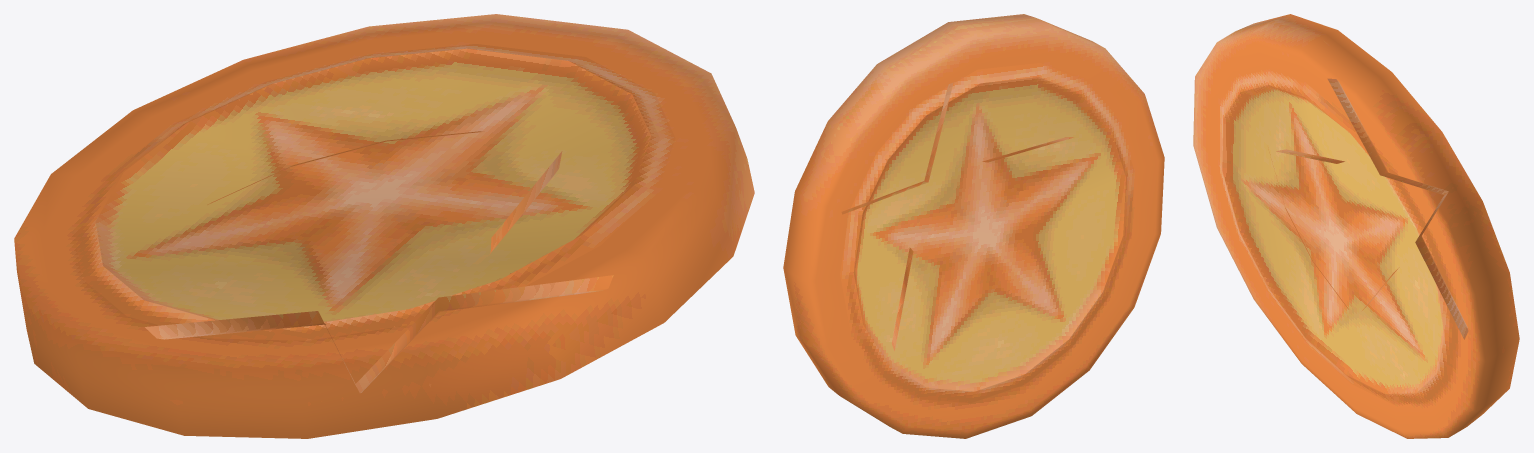
The model's file is ps2_save-icons_thrillville-savedata.glb.
3 renders of one model, left to right at view 1: azimuth 30°, elevation 25°; view 2: azimuth 150°, elevation 25°; view 3: azimuth 270°, elevation 25°, orthographic. The views are drawn at different scales.
Visible parts, largest first — view 1: ucp.ico; view 2: ucp.ico; view 3: ucp.ico.
Part boxes in pixels (bbox=[...]): ucp.ico: bbox=[14, 14, 754, 438]; ucp.ico: bbox=[783, 14, 1164, 438]; ucp.ico: bbox=[1193, 14, 1519, 438].
Bounding box in the file's own units: 4.79 × 4.11 × 3.45.
1 material, 1 textured.
